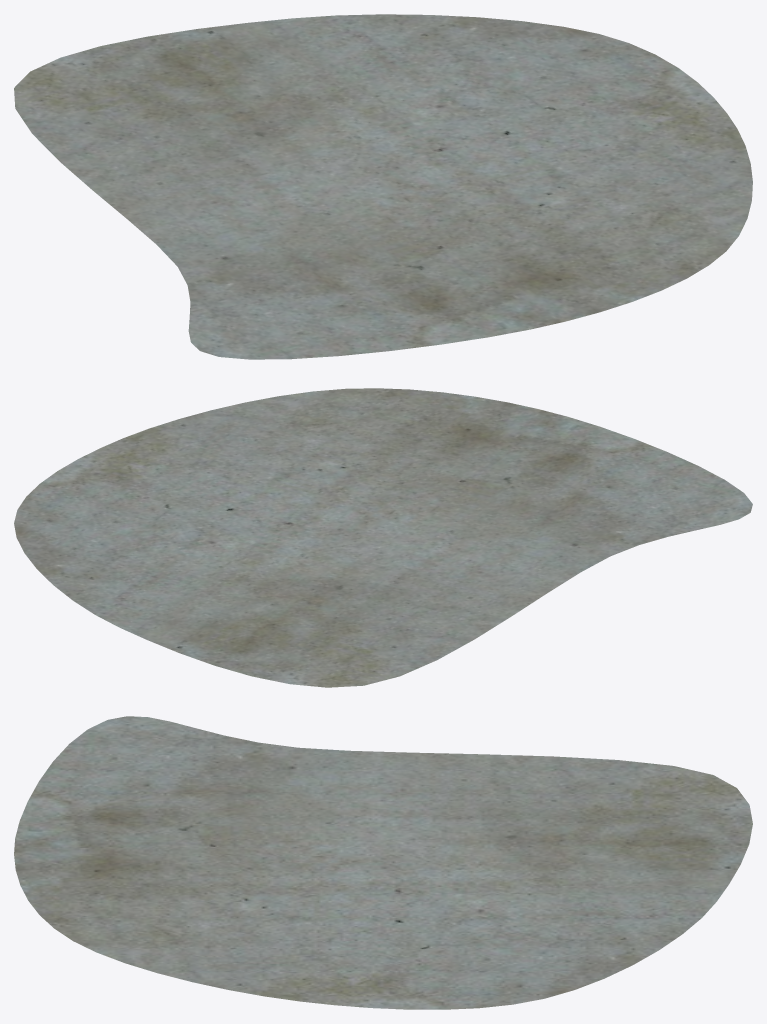
Rendered from stone4.FBX.
The picture shows the model from 3 angles, top to bottom: view 1: azimuth 30°, elevation 25°; view 2: azimuth 150°, elevation 25°; view 3: azimuth 270°, elevation 25°; orthographic projection. The views are drawn at different scales.
Visible parts, largest first — view 1: Line02; view 2: Line02; view 3: Line02.
Boxes of the visible parts, left/top/right/bottom form: Line02: left=14, top=14, right=752, bottom=359; Line02: left=14, top=388, right=752, bottom=687; Line02: left=14, top=716, right=752, bottom=1009.
Bounding box in the file's own units: 54.63 × 3.56e-15 × 58.11.
Materials: 1 (1 with a texture image).
